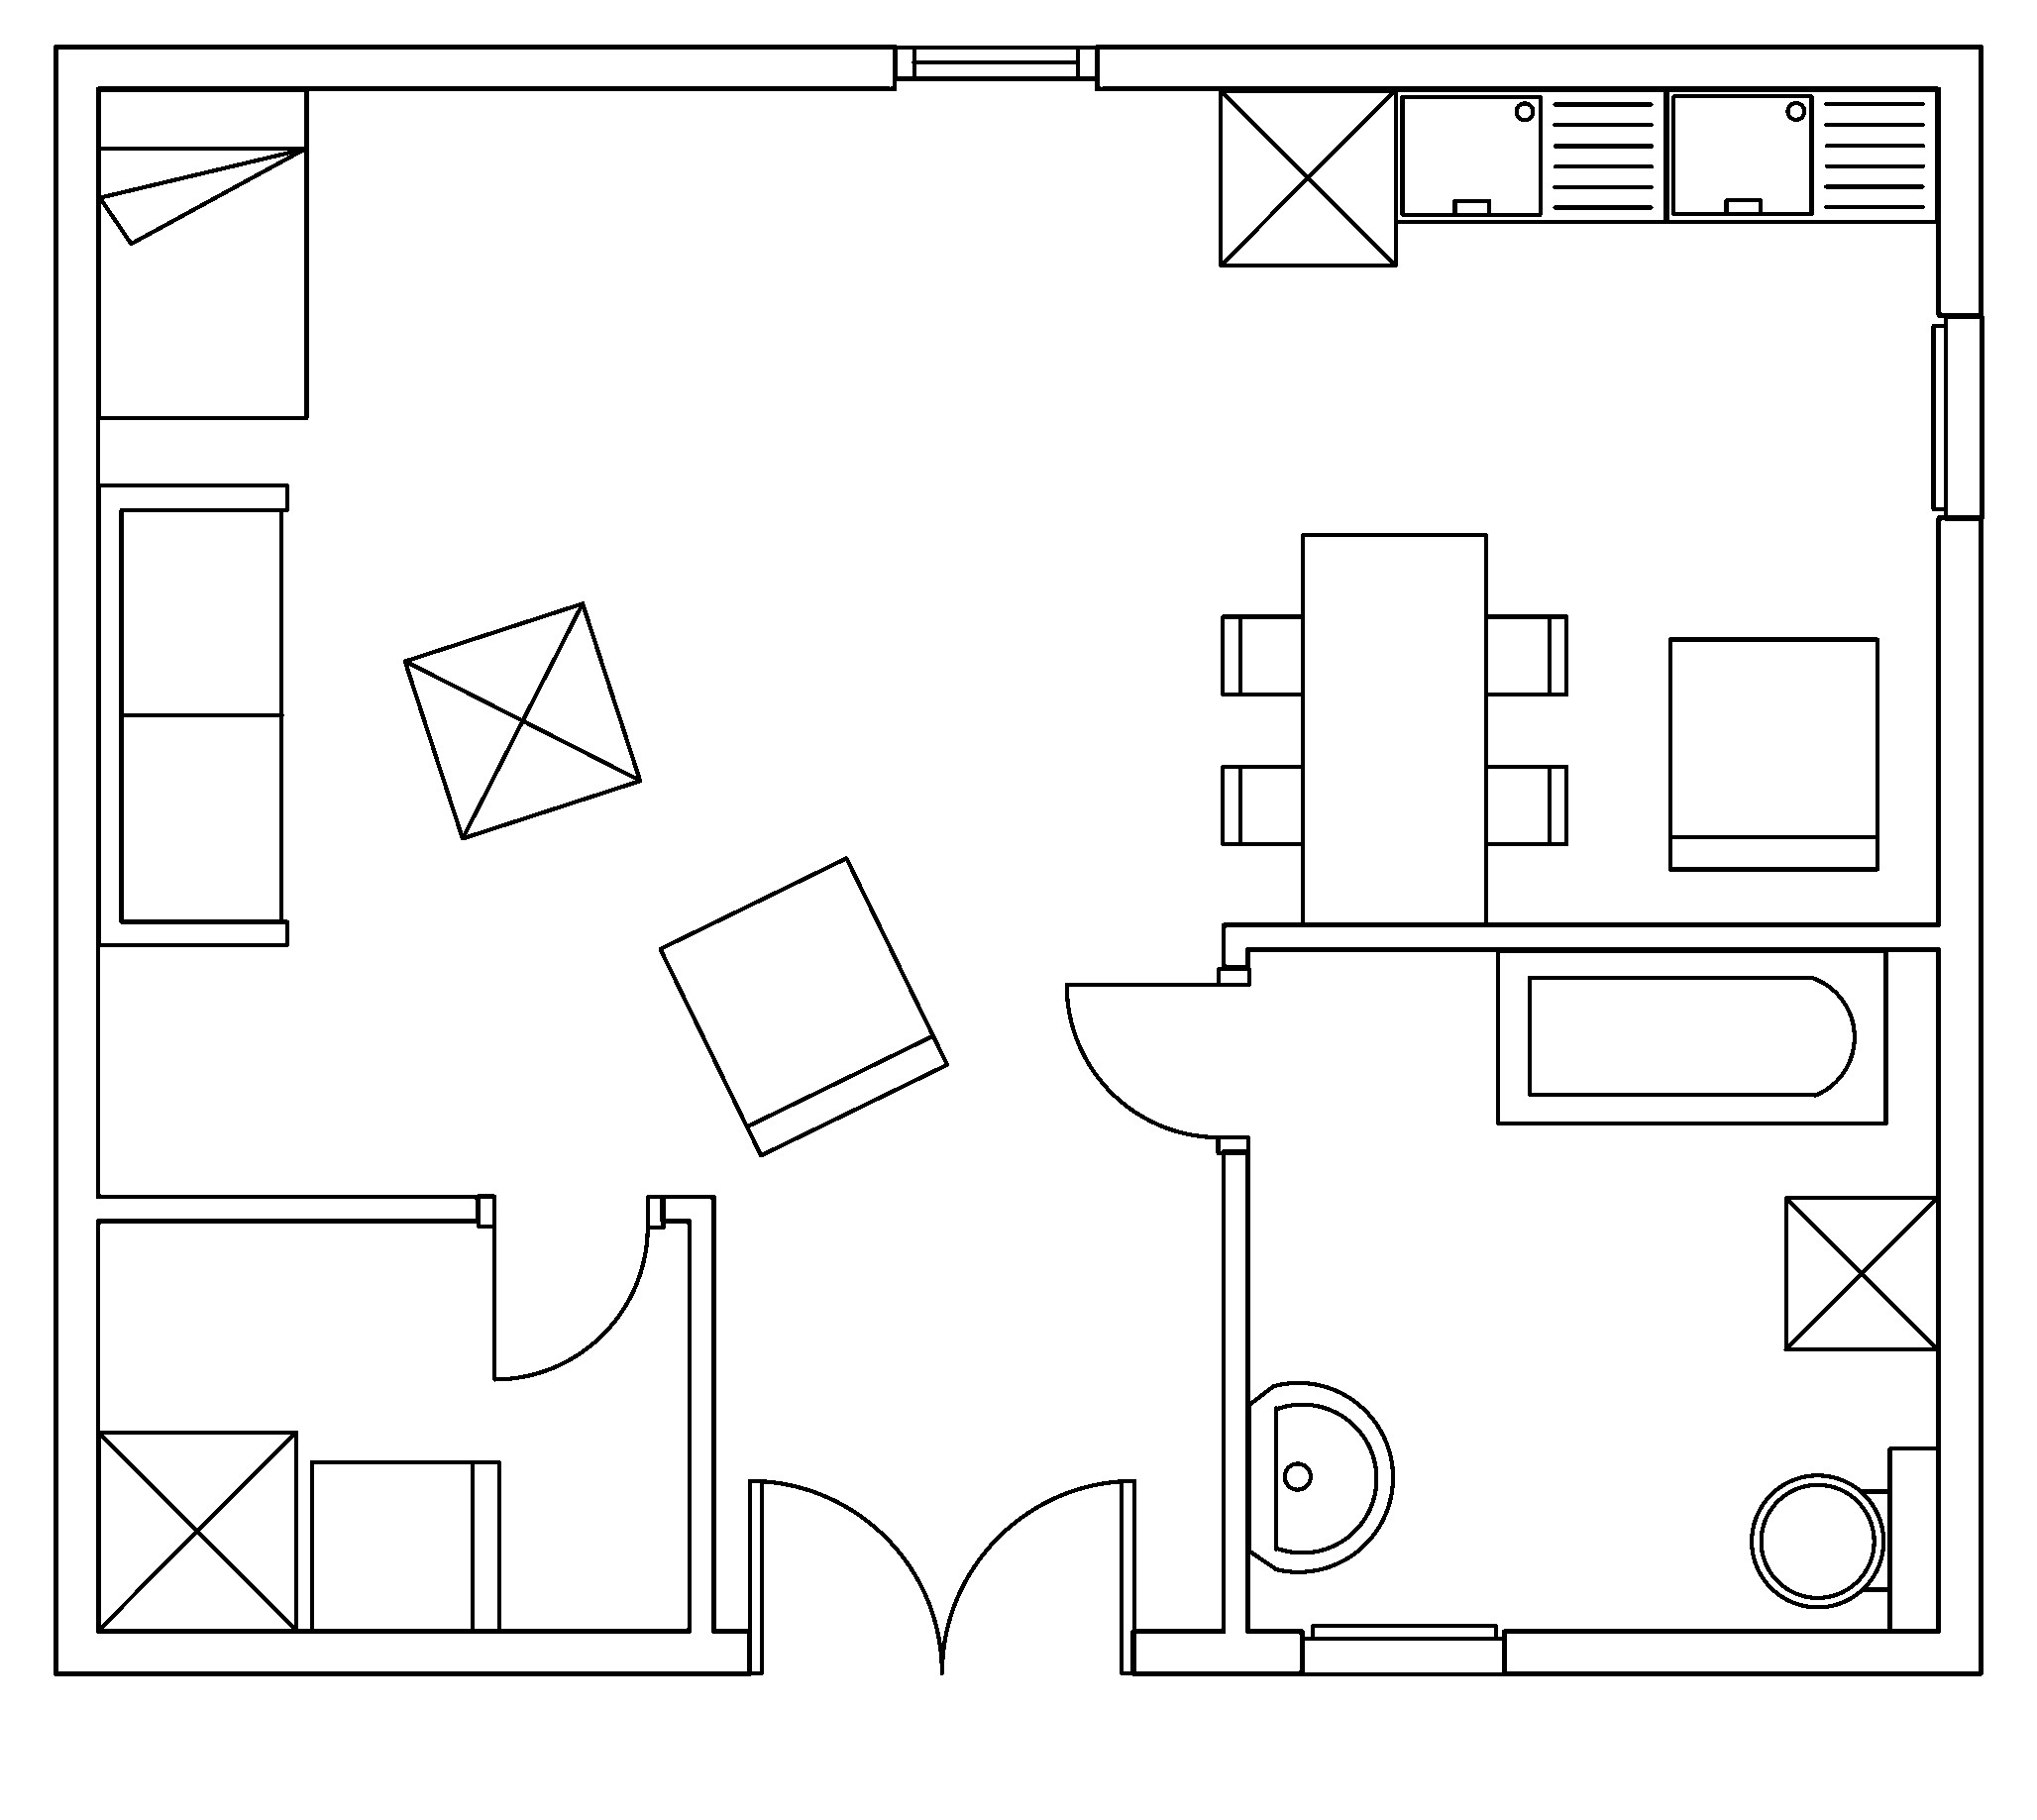bed: (95, 86, 309, 420)
coffee_table: (402, 599, 643, 840), (95, 1428, 299, 1632), (1217, 86, 1398, 267), (1781, 1195, 1940, 1351)
dining_table: (1219, 531, 1568, 926)
large_sink: (1749, 1444, 1940, 1632)
large_sofa: (95, 481, 290, 947)
sink: (1663, 86, 1940, 223), (1393, 86, 1668, 223)
small_sink: (1245, 1381, 1394, 1572)
small_sofa: (657, 854, 950, 1158), (1666, 636, 1879, 871), (307, 1458, 500, 1632)
tub: (1494, 947, 1888, 1126)
